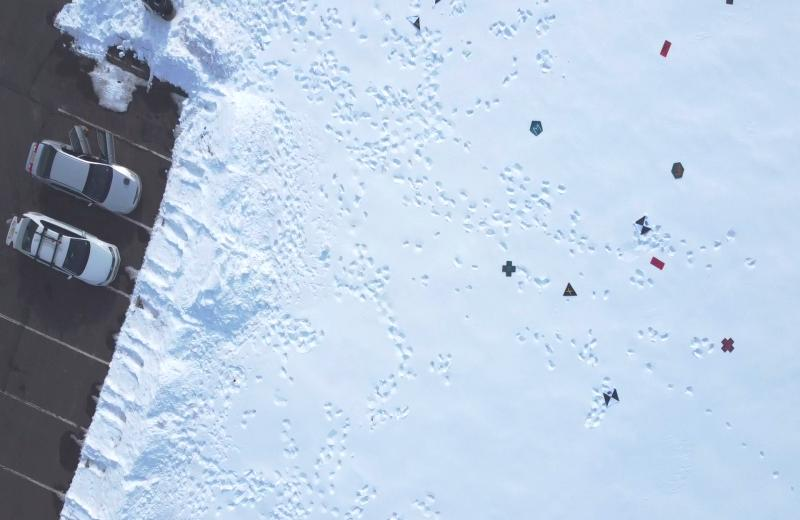Cross: (501, 260, 518, 278), (720, 337, 736, 355)
Hexagon: (670, 162, 686, 180)
Pentagon: (526, 117, 544, 137)
Rectangle: (658, 40, 674, 58), (650, 255, 666, 272)
Square: (724, 0, 734, 6)
Triangle: (562, 280, 578, 300)
